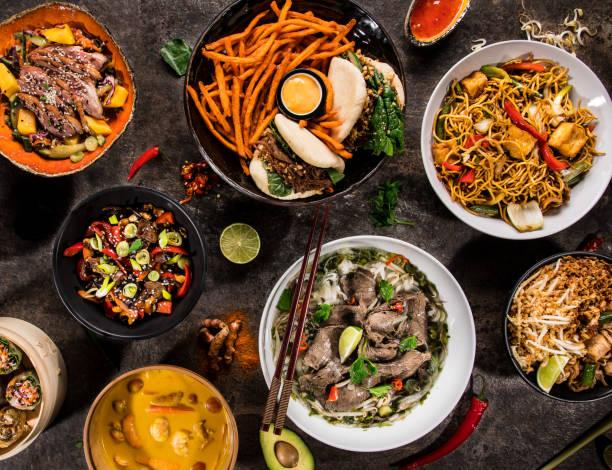Braised Crucian Carp: (257, 235, 470, 454), (183, 2, 396, 207), (421, 39, 609, 239), (1, 1, 136, 178), (52, 186, 206, 338), (504, 252, 609, 404), (81, 364, 233, 469)
